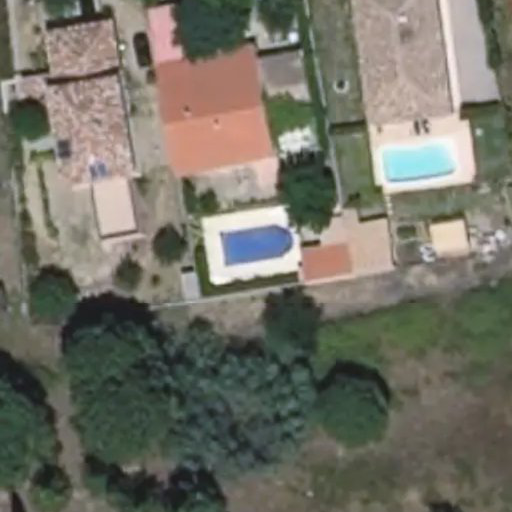pool: (217, 226, 297, 264), (382, 143, 457, 181)
